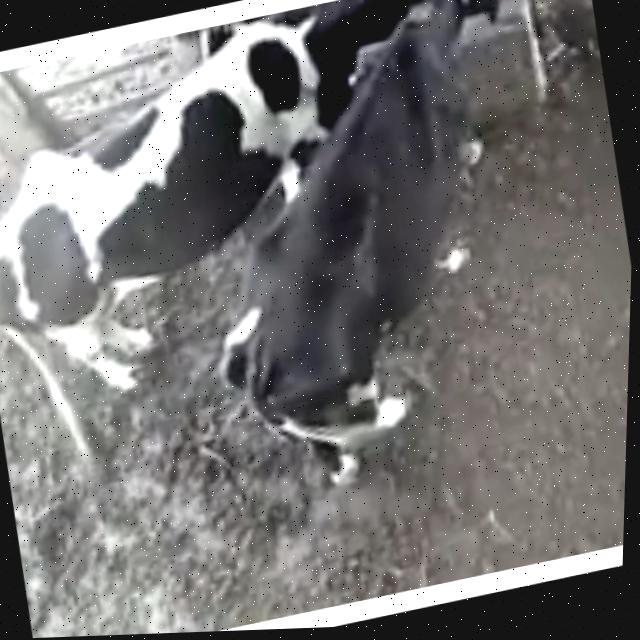drink: (206, 0, 408, 110), (372, 0, 535, 79)
